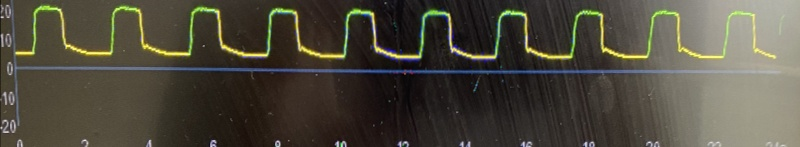normal_pressure: (10, 0, 781, 75)
